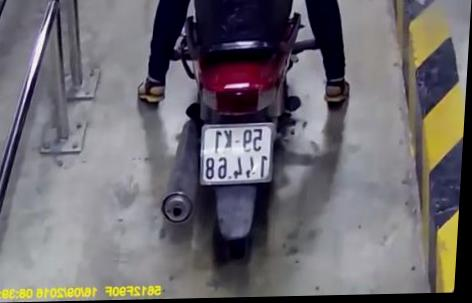License_Plate: (192, 118, 283, 192)
